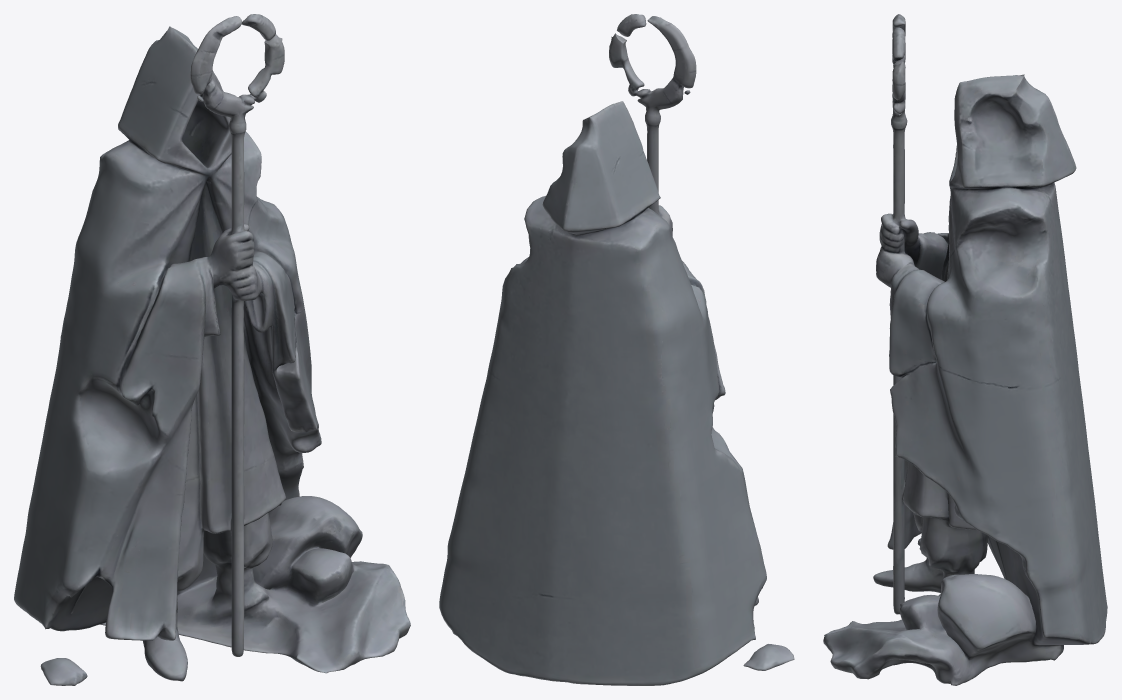
The model's file is estatua_piedra.glb.
The picture shows the model from 3 angles, left to right: view 1: azimuth 30°, elevation 25°; view 2: azimuth 150°, elevation 25°; view 3: azimuth 270°, elevation 25°; orthographic projection. The views are drawn at different scales.
Parts seen in each view (by area): view 1: tripo_node_8f0403ac; view 2: tripo_node_8f0403ac; view 3: tripo_node_8f0403ac.
Boxes of the visible parts, left/top/right/bottom form: tripo_node_8f0403ac: left=14, top=14, right=410, bottom=685; tripo_node_8f0403ac: left=439, top=14, right=794, bottom=685; tripo_node_8f0403ac: left=823, top=14, right=1107, bottom=685.
Size of the model in its own units: 54.53 by 99.77 by 43.17.
1 material, 1 textured.
